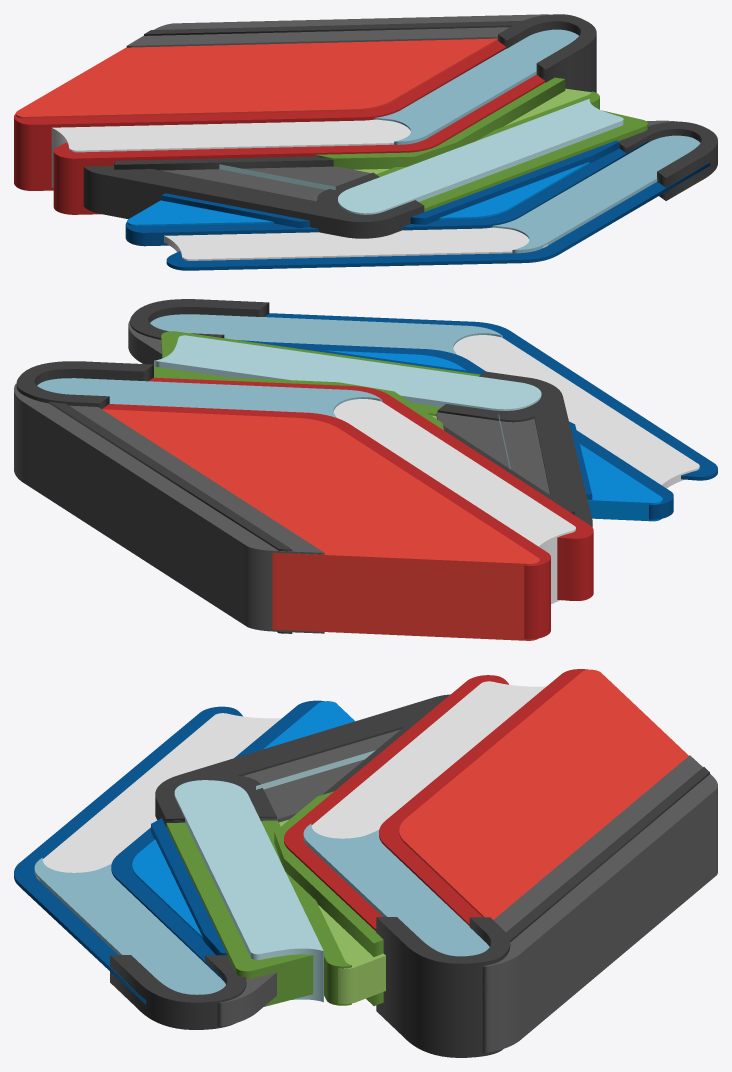
File: emoji_u1f4da.glb
The picture shows the model from 3 angles, top to bottom: view 1: azimuth 30°, elevation 25°; view 2: azimuth 150°, elevation 25°; view 3: azimuth 270°, elevation 25°; orthographic projection. The views are drawn at different scales.
Parts seen in each view (by area): view 1: emoji_u1f4da; view 2: emoji_u1f4da; view 3: emoji_u1f4da.
Boxes of the visible parts, x1,y1,x2,y2 form: emoji_u1f4da: (14,14,717,270); emoji_u1f4da: (14,299,717,640); emoji_u1f4da: (14,669,717,1057).
Bounding box in the file's own units: 0.0337 × 0.0048 × 0.0325.
